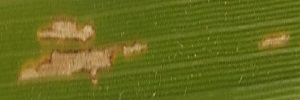RiceBacterialBlight: (16, 12, 151, 88), (255, 28, 294, 55)
